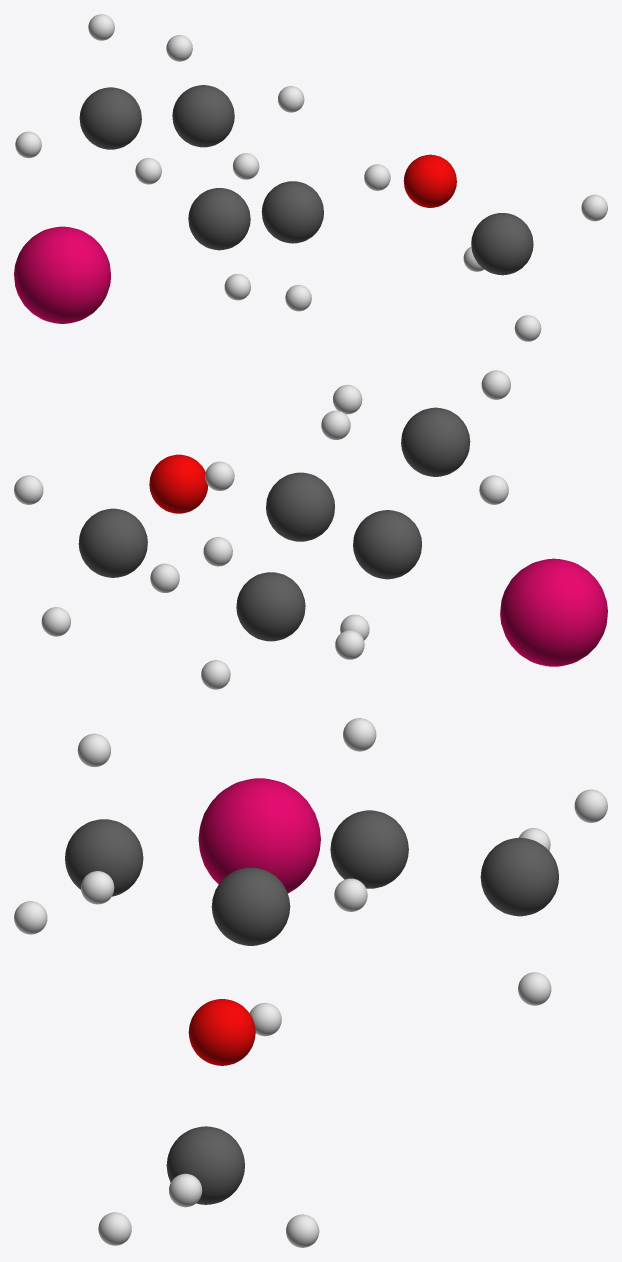
File: SN2_2-Bromobutane_secondary.fbx
The picture shows the model from 3 angles, top to bottom: view 1: azimuth 30°, elevation 25°; view 2: azimuth 150°, elevation 25°; view 3: azimuth 270°, elevation 25°; orthographic projection. The views are drawn at different scales.
Parts seen in each view (by area): view 1: Br14, C07, C10, C01, C15, C05, O19, H02, H18, H06, H09, H11 (+6 smaller); view 2: Br14, C15, C07, C01, C10, C05, O19, H13, H03, H16, H04, H11 (+7 smaller); view 3: Br14, C05, C10, C07, C15, C01, O19, H13, H08, H02, H03, H17 (+6 smaller).
Part boxes in pixels (x1=…): Br14: x1=14, y1=226, x2=110, y2=323; C07: x1=172, y1=85, x2=234, y2=147; C10: x1=79, y1=87, x2=141, y2=149; C01: x1=261, y1=181, x2=323, y2=243; C15: x1=471, y1=213, x2=533, y2=275; C05: x1=188, y1=188, x2=250, y2=250; O19: x1=403, y1=154, x2=456, y2=207; H02: x1=364, y1=164, x2=390, y2=190; H18: x1=514, y1=315, x2=541, y2=341; H06: x1=224, y1=274, x2=250, y2=300; H09: x1=166, y1=35, x2=192, y2=61; H11: x1=15, y1=131, x2=41, y2=158; Br14: x1=500, y1=558, x2=607, y2=666; C15: x1=78, y1=508, x2=147, y2=577; C07: x1=266, y1=472, x2=334, y2=541; C01: x1=401, y1=407, x2=470, y2=476; C10: x1=236, y1=572, x2=305, y2=641; C05: x1=353, y1=510, x2=421, y2=579; O19: x1=149, y1=454, x2=208, y2=513; H13: x1=201, y1=660, x2=230, y2=689; H03: x1=479, y1=475, x2=508, y2=504; H16: x1=14, y1=475, x2=43, y2=504; H04: x1=481, y1=370, x2=510, y2=399; H11: x1=335, y1=630, x2=364, y2=659; Br14: x1=198, y1=778, x2=320, y2=893; C05: x1=211, y1=867, x2=290, y2=945; C10: x1=480, y1=838, x2=558, y2=916; C07: x1=330, y1=810, x2=408, y2=888; C15: x1=166, y1=1126, x2=244, y2=1204; C01: x1=65, y1=819, x2=143, y2=896; O19: x1=188, y1=999, x2=255, y2=1065; H13: x1=518, y1=972, x2=551, y2=1005; H08: x1=334, y1=878, x2=367, y2=911; H02: x1=81, y1=871, x2=114, y2=904; H03: x1=14, y1=901, x2=47, y2=934; H17: x1=286, y1=1214, x2=319, y2=1247.
Bounding box in the file's own units: 772 × 390 × 567.
